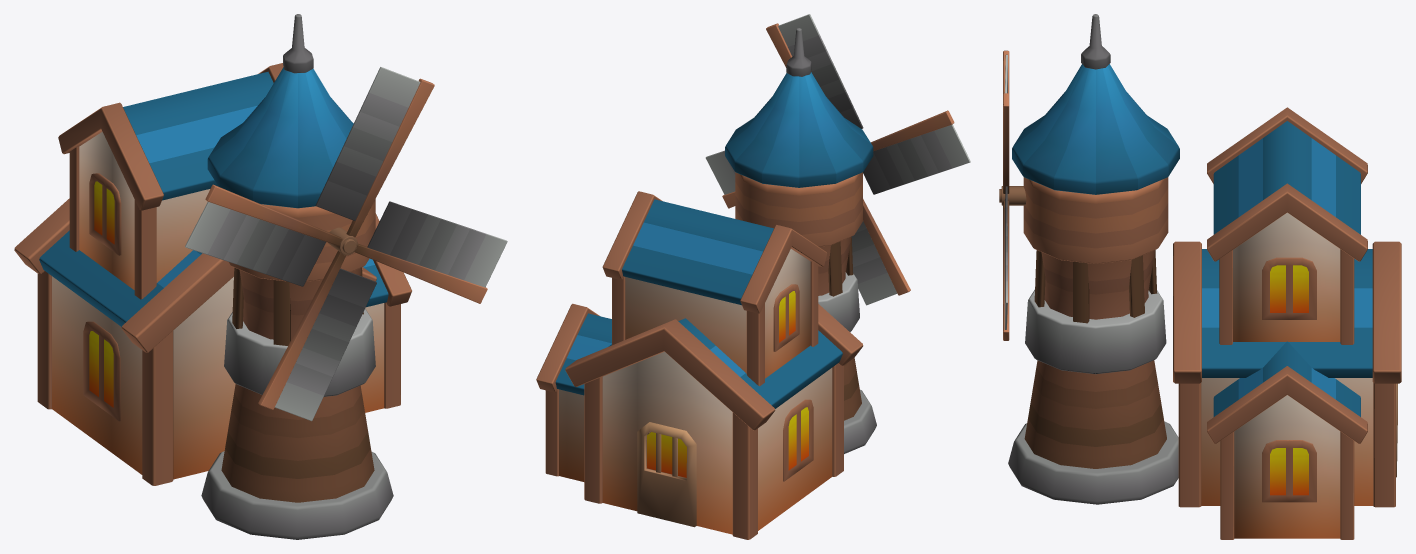
The model's file is WindmilllHouse_2.fbx.
The picture shows the model from 3 angles, left to right: view 1: azimuth 30°, elevation 25°; view 2: azimuth 150°, elevation 25°; view 3: azimuth 270°, elevation 25°; orthographic projection. The views are drawn at different scales.
Parts seen in each view (by area): view 1: WindmilllHouse_2; view 2: WindmilllHouse_2; view 3: WindmilllHouse_2.
Part boxes in pixels (left/top/right/bottom): WindmilllHouse_2: left=14, top=14, right=507, bottom=539; WindmilllHouse_2: left=536, top=14, right=970, bottom=539; WindmilllHouse_2: left=999, top=14, right=1401, bottom=539.
Size of the model in its own units: 440 by 610 by 492.
